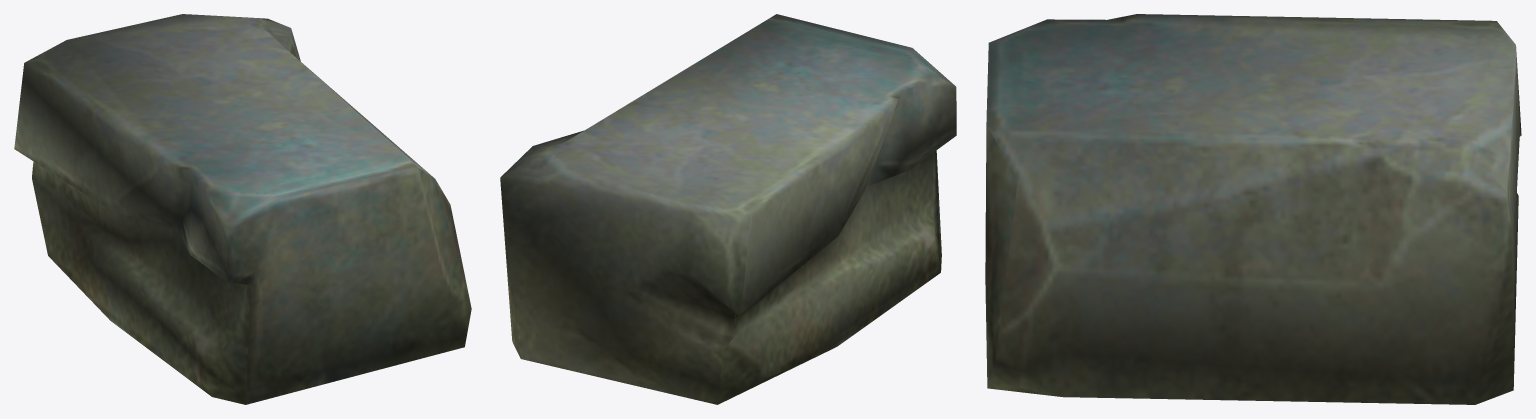
File: wlf_shitou13_w.FBX
3 views of the same model, side by side, from view 1: azimuth 30°, elevation 25°; view 2: azimuth 150°, elevation 25°; view 3: azimuth 270°, elevation 25° (orthographic). The views are drawn at different scales.
Parts seen in each view (by area): view 1: wlf_shitou13_w; view 2: wlf_shitou13_w; view 3: wlf_shitou13_w.
Boxes of the visible parts, box(x1,y1,x2,y2) form: wlf_shitou13_w: box(14, 14, 471, 404); wlf_shitou13_w: box(500, 14, 956, 404); wlf_shitou13_w: box(985, 14, 1521, 404).
Size of the model in its own units: 12.52 by 9.61 by 19.02.
